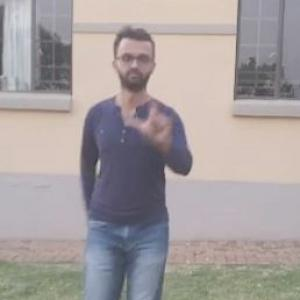land_hand: (123, 90, 176, 150)
